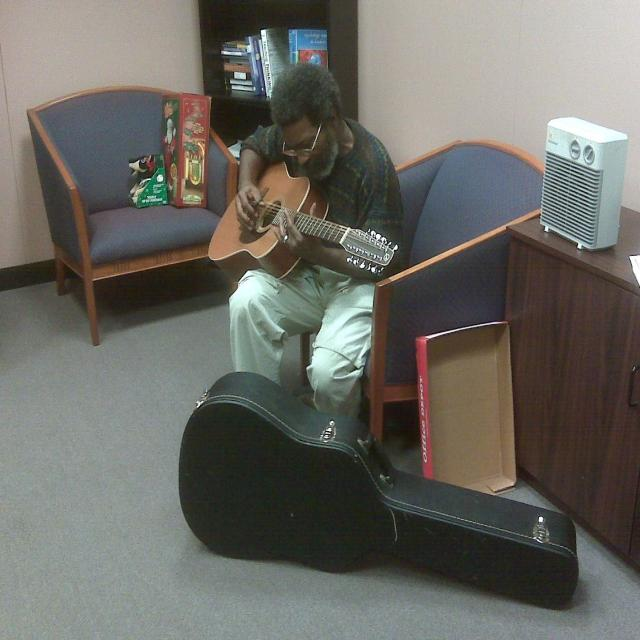guitar: (206, 160, 399, 284)
